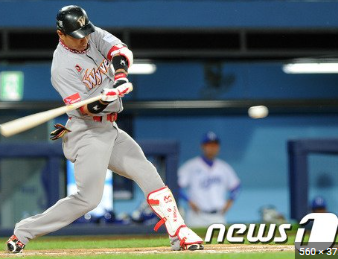ball: (247, 103, 270, 120)
